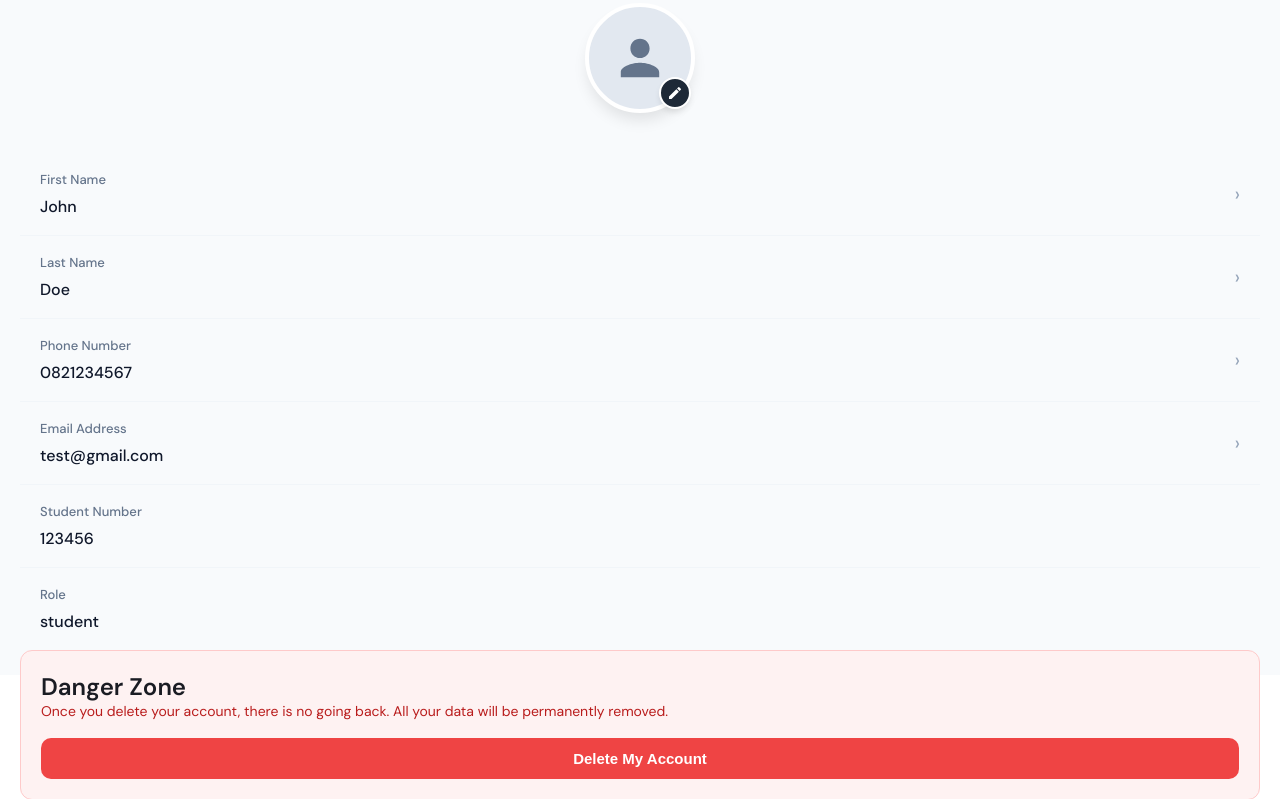
Test: Profile Component › Delete account › shows error when delete account fails
This screenshot has width=1280, height=799.
(page scrolled)
Click the button "Delete My Account".
click(640, 758)  # box [41,738,1239,779]
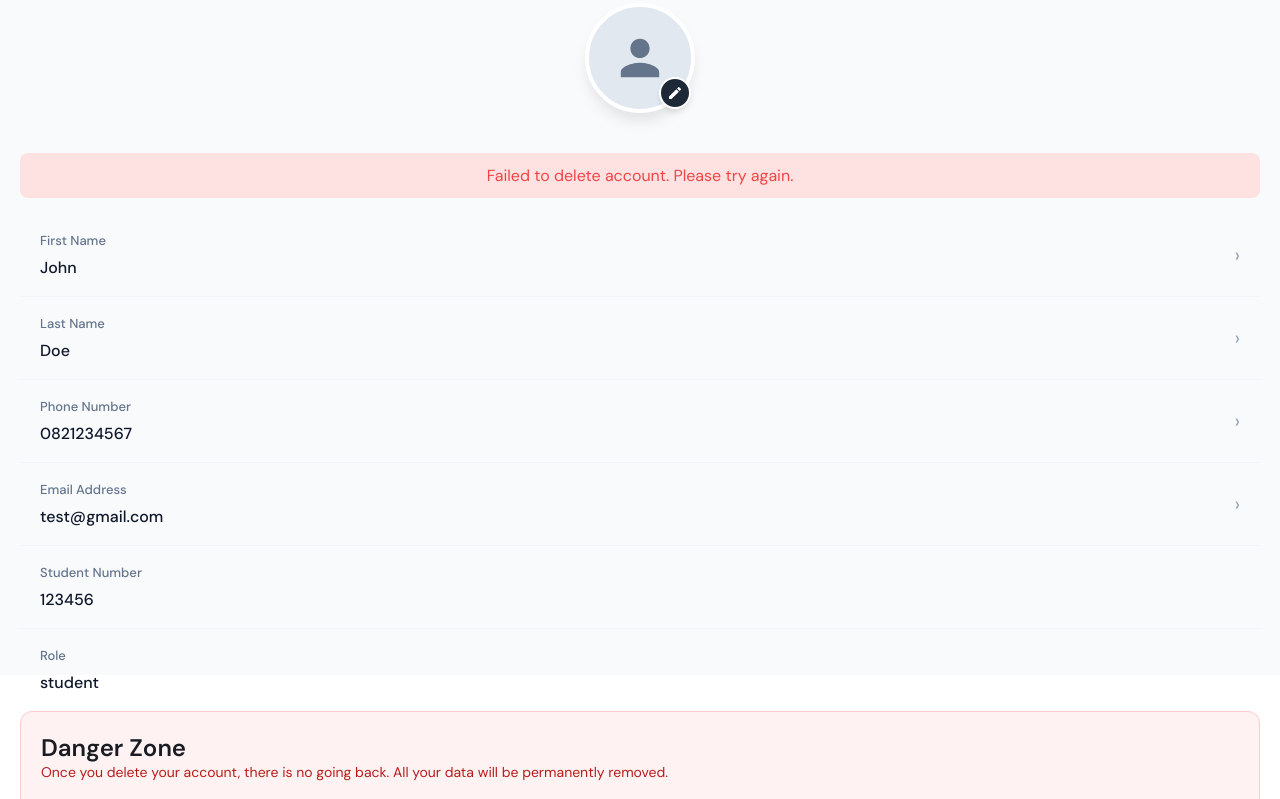
Now the text "Failed to delete account. Please try again." is shown, box [20,153,1260,198]
